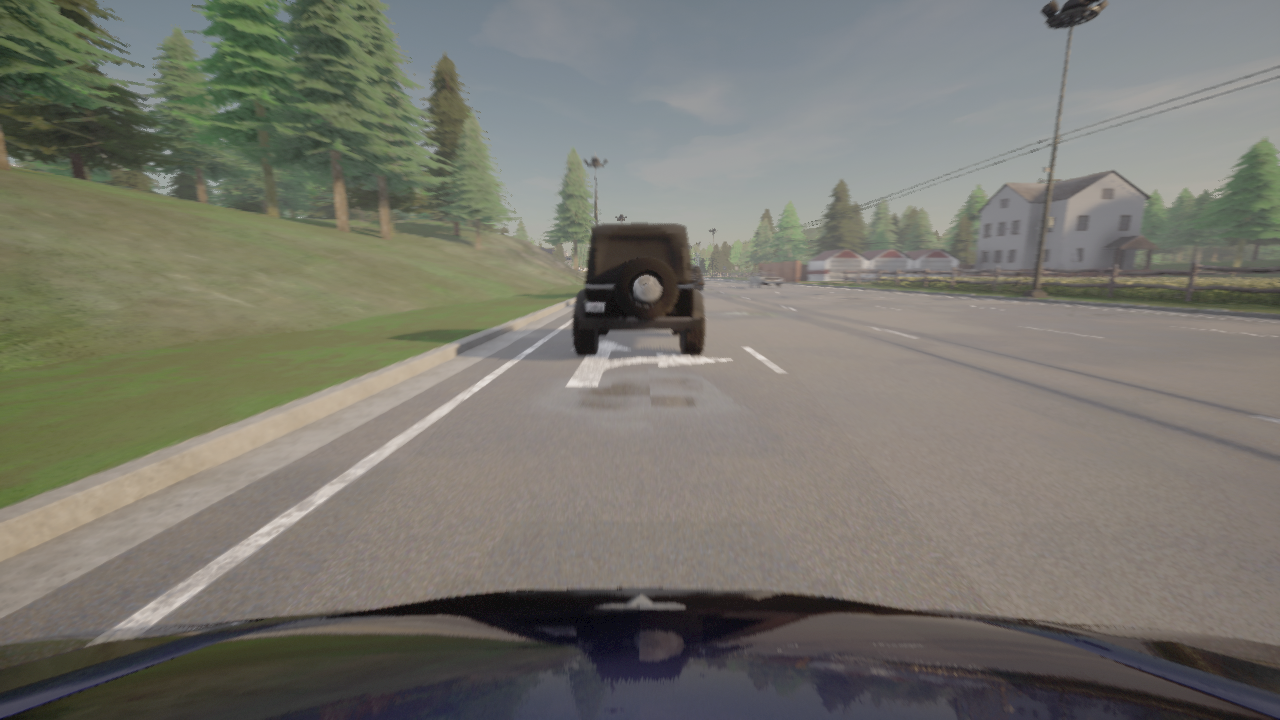cyclist: (0, 588, 1279, 719), (573, 223, 704, 354), (749, 272, 783, 287), (692, 264, 703, 290)
